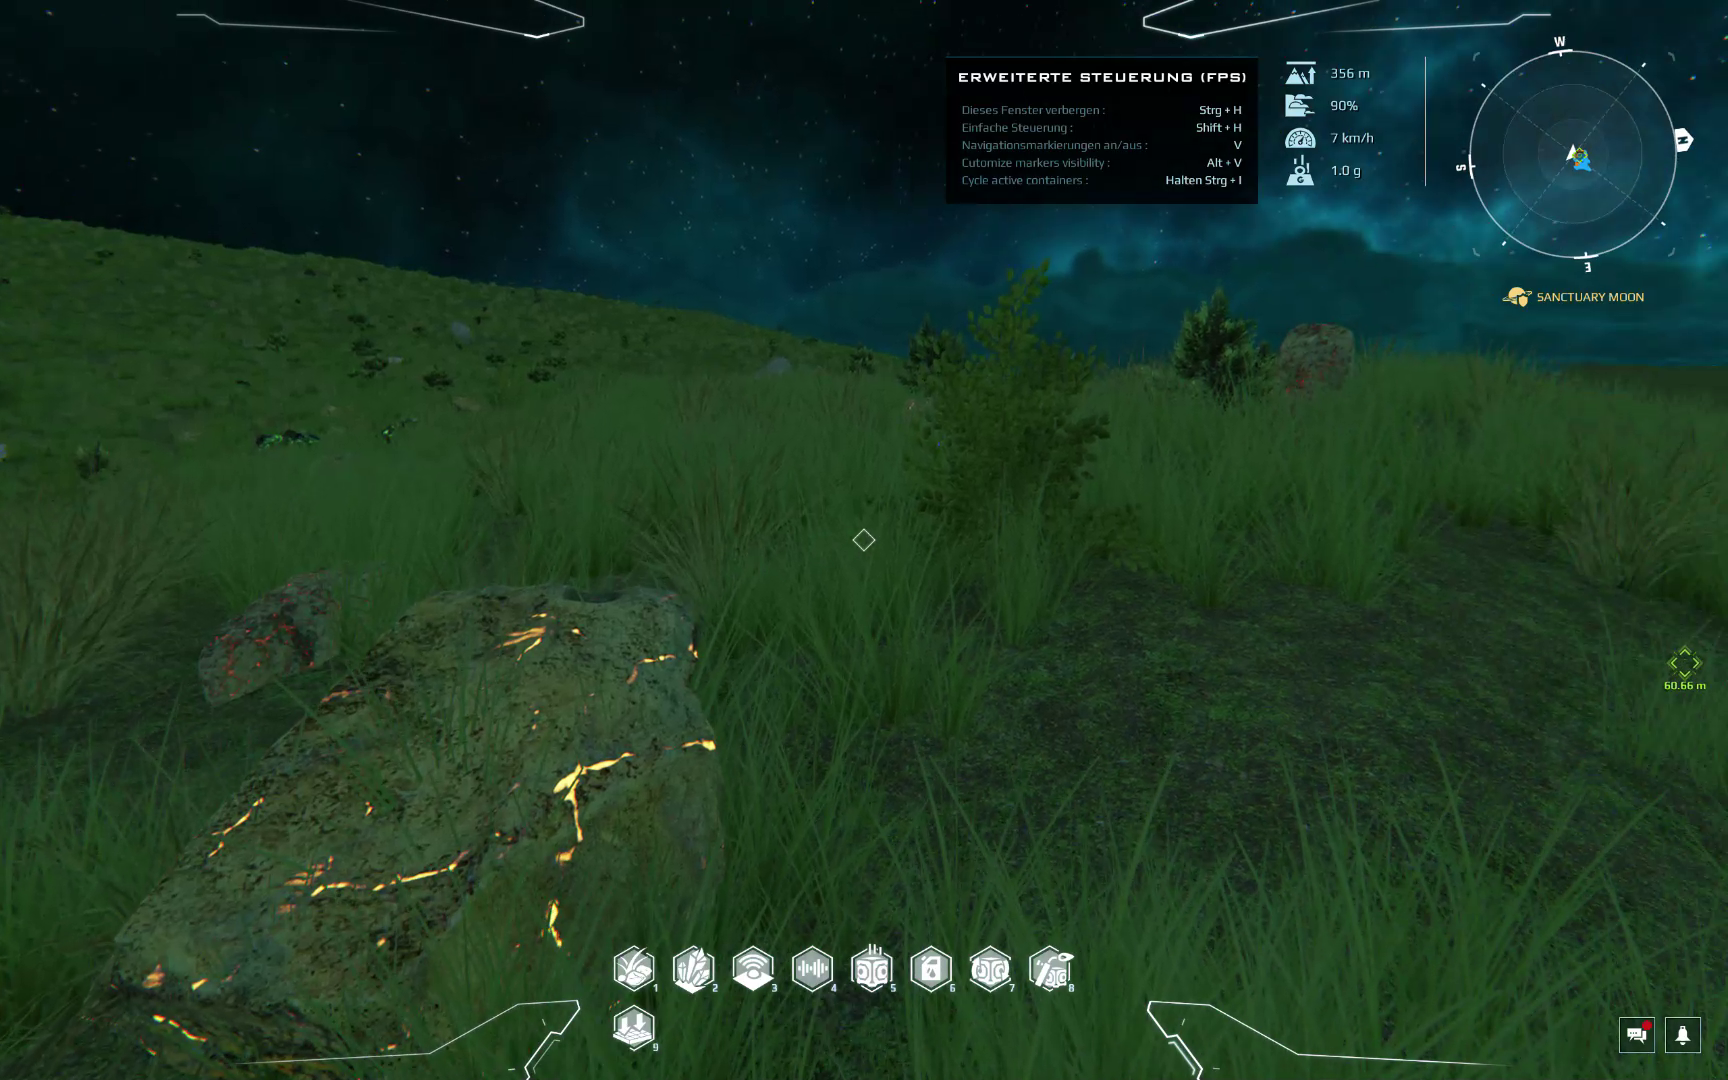Ore: (62, 579, 728, 1080), (193, 564, 345, 705), (1276, 316, 1361, 399)
